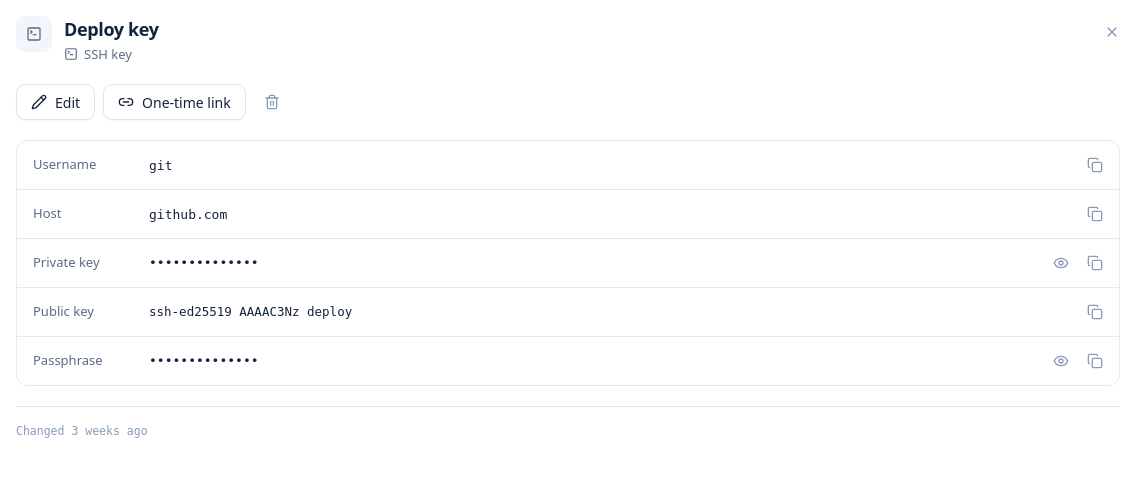
Test: record types in the panel › SSH key: the private key is hidden until revealed, the public key is shown
Expected: the text named "Public key" shows "ssh-ed25519", left=149, top=304, right=352, bottom=319
Expected: the text named "Private key" does not show "BEGIN", left=149, top=255, right=259, bottom=270
Click the button named "Show private key". click: coordinates (1061, 263)
box: left=1045, top=247, right=1077, bottom=279
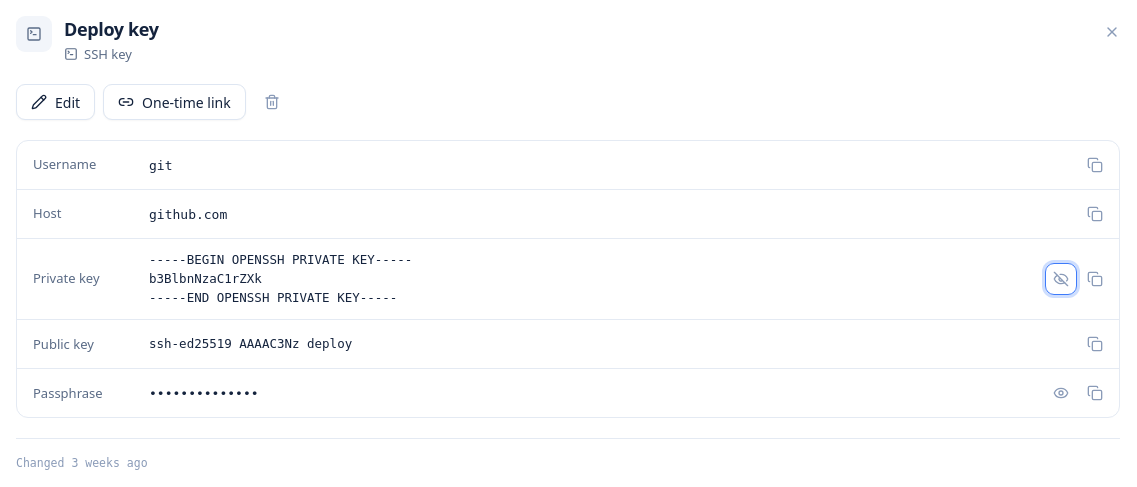
Expected: the text labelled "PRIVATE KEY" shows "BEGIN OPENSSH PRIVATE KEY", left=149, top=252, right=412, bottom=304
